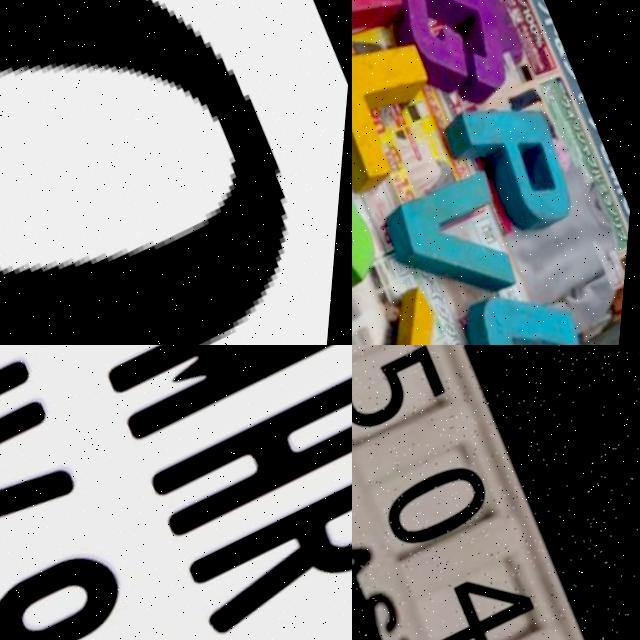0: (356, 426, 523, 577)
4: (0, 439, 99, 628), (401, 533, 569, 640)
5: (352, 345, 473, 459)
8: (0, 539, 145, 640)
C: (352, 150, 412, 345)
G: (373, 0, 527, 118)
H: (144, 366, 352, 546), (0, 352, 59, 526)
L: (352, 20, 468, 201)
M: (103, 345, 352, 447)
P: (436, 86, 593, 254)
R: (179, 458, 352, 640)
V: (375, 157, 539, 327)
X: (352, 282, 517, 345)
